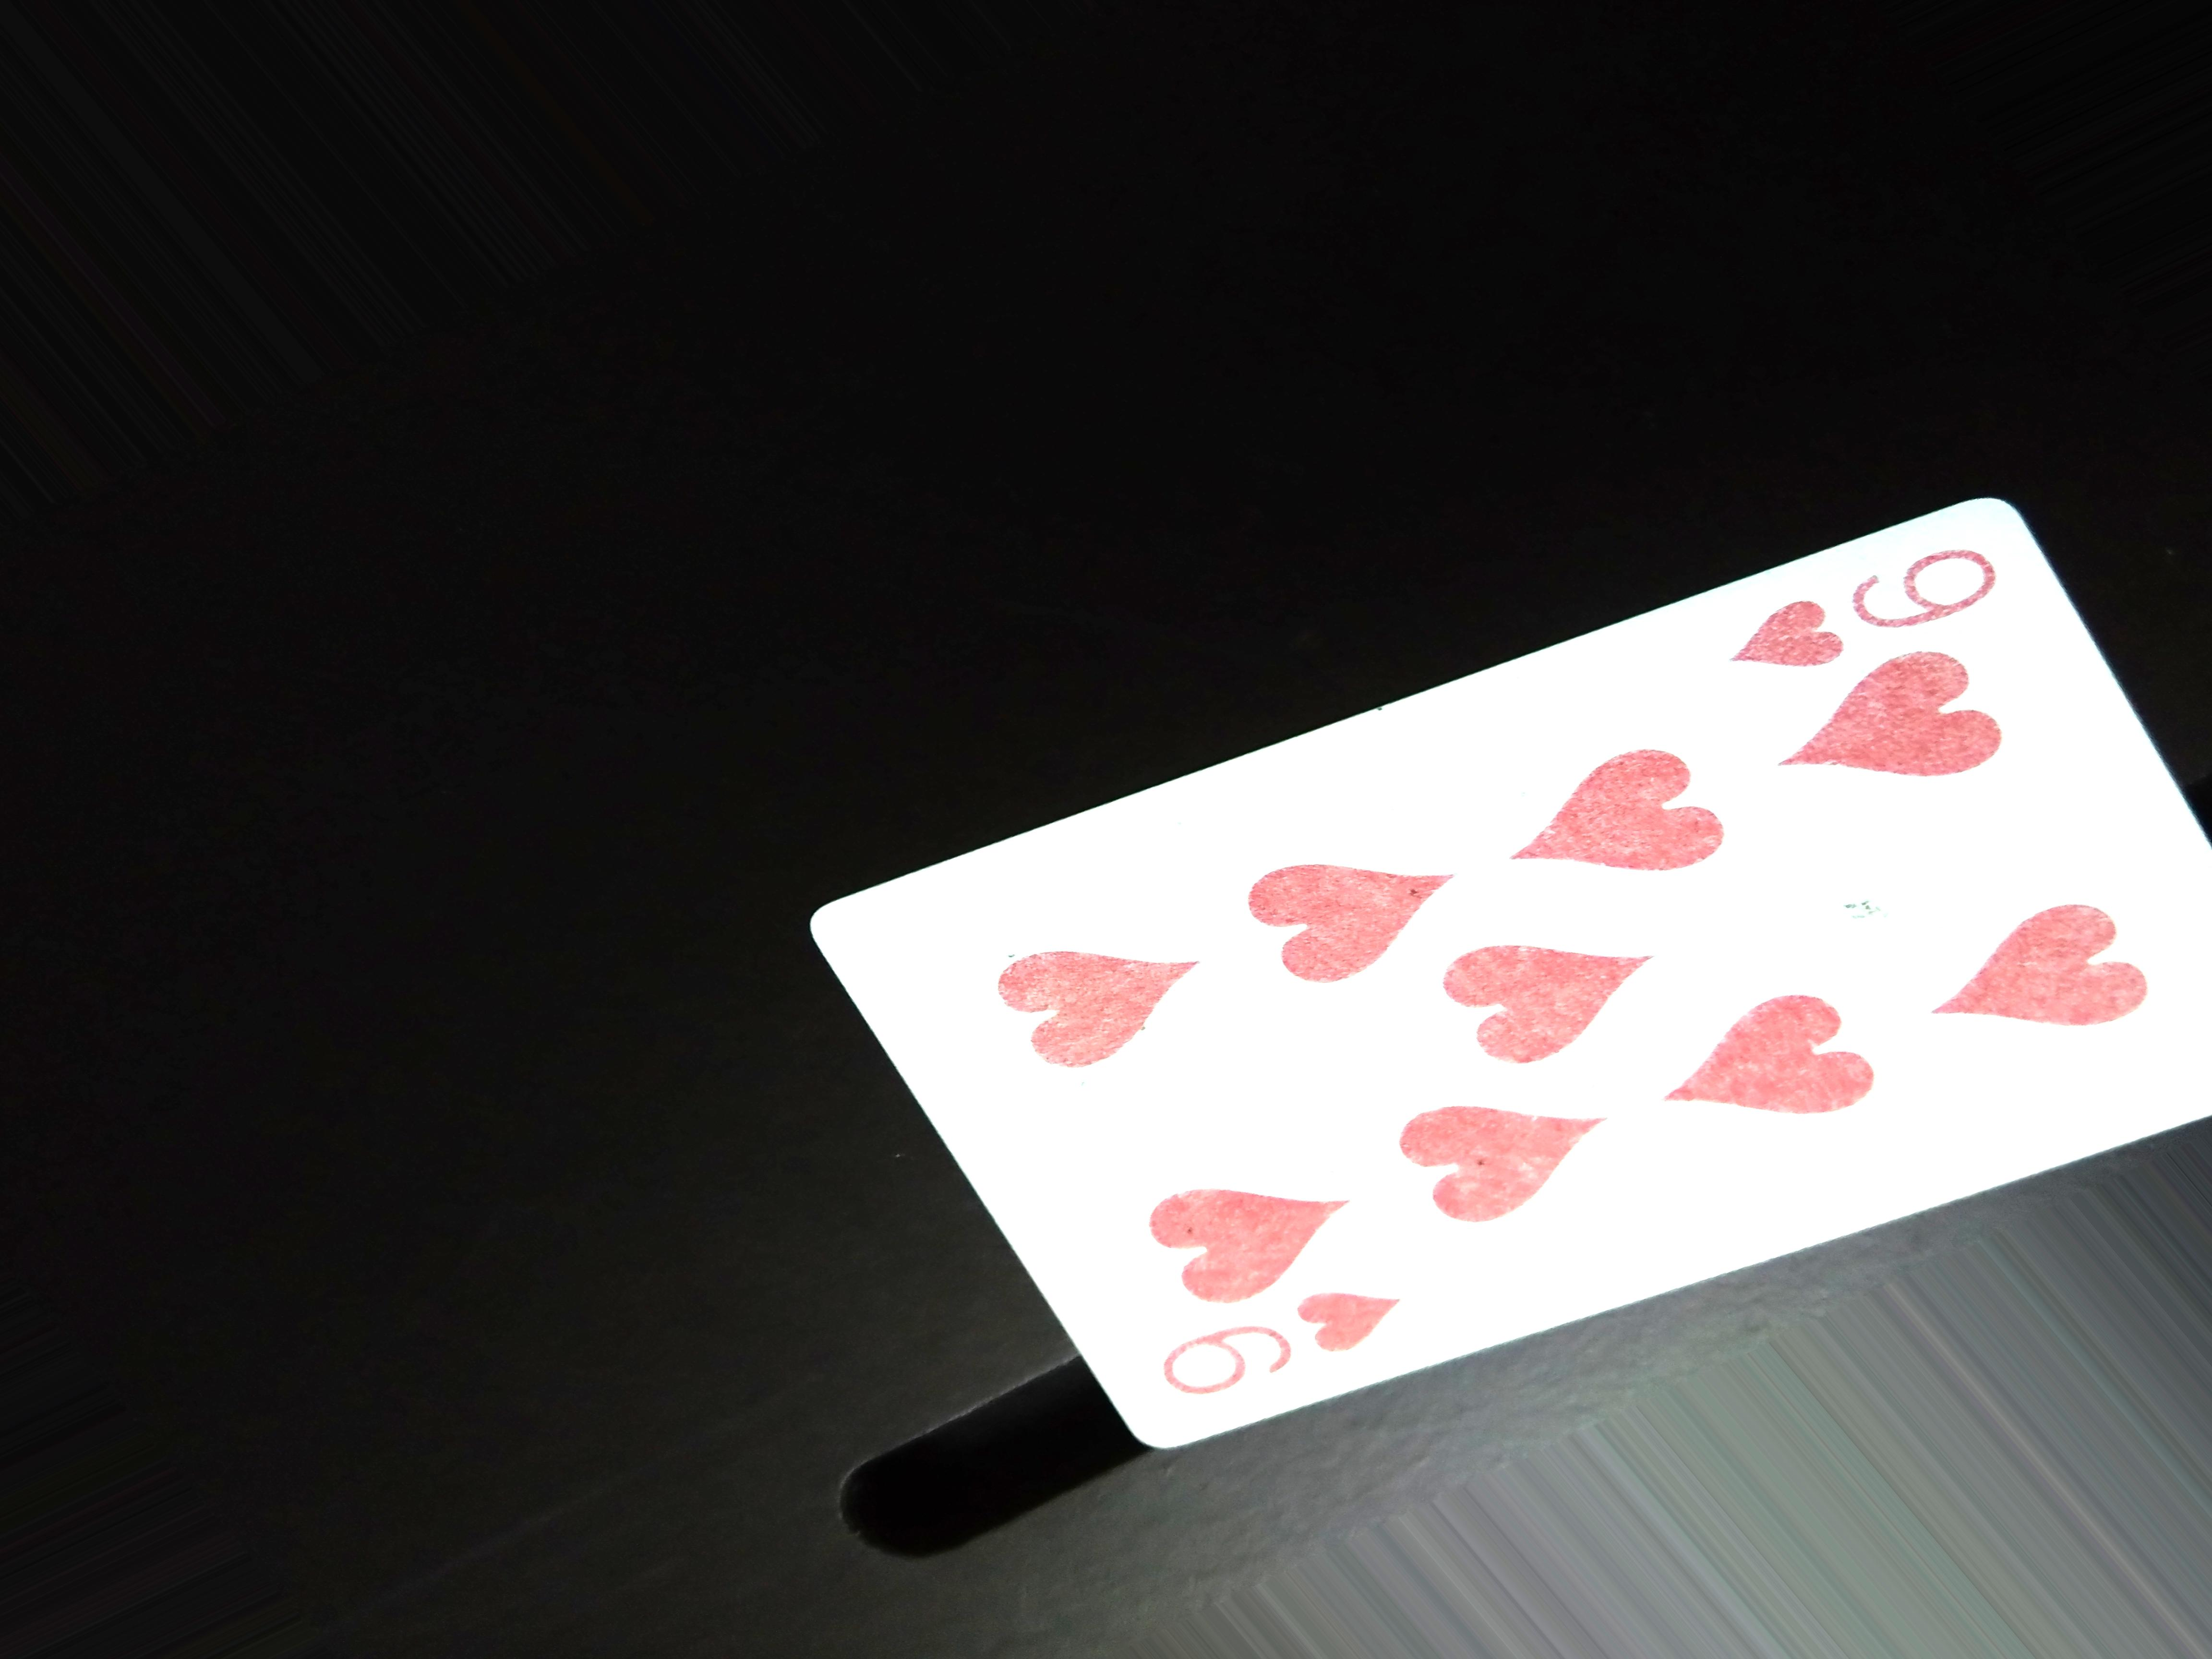9H: (1137, 1305, 1390, 1389)
